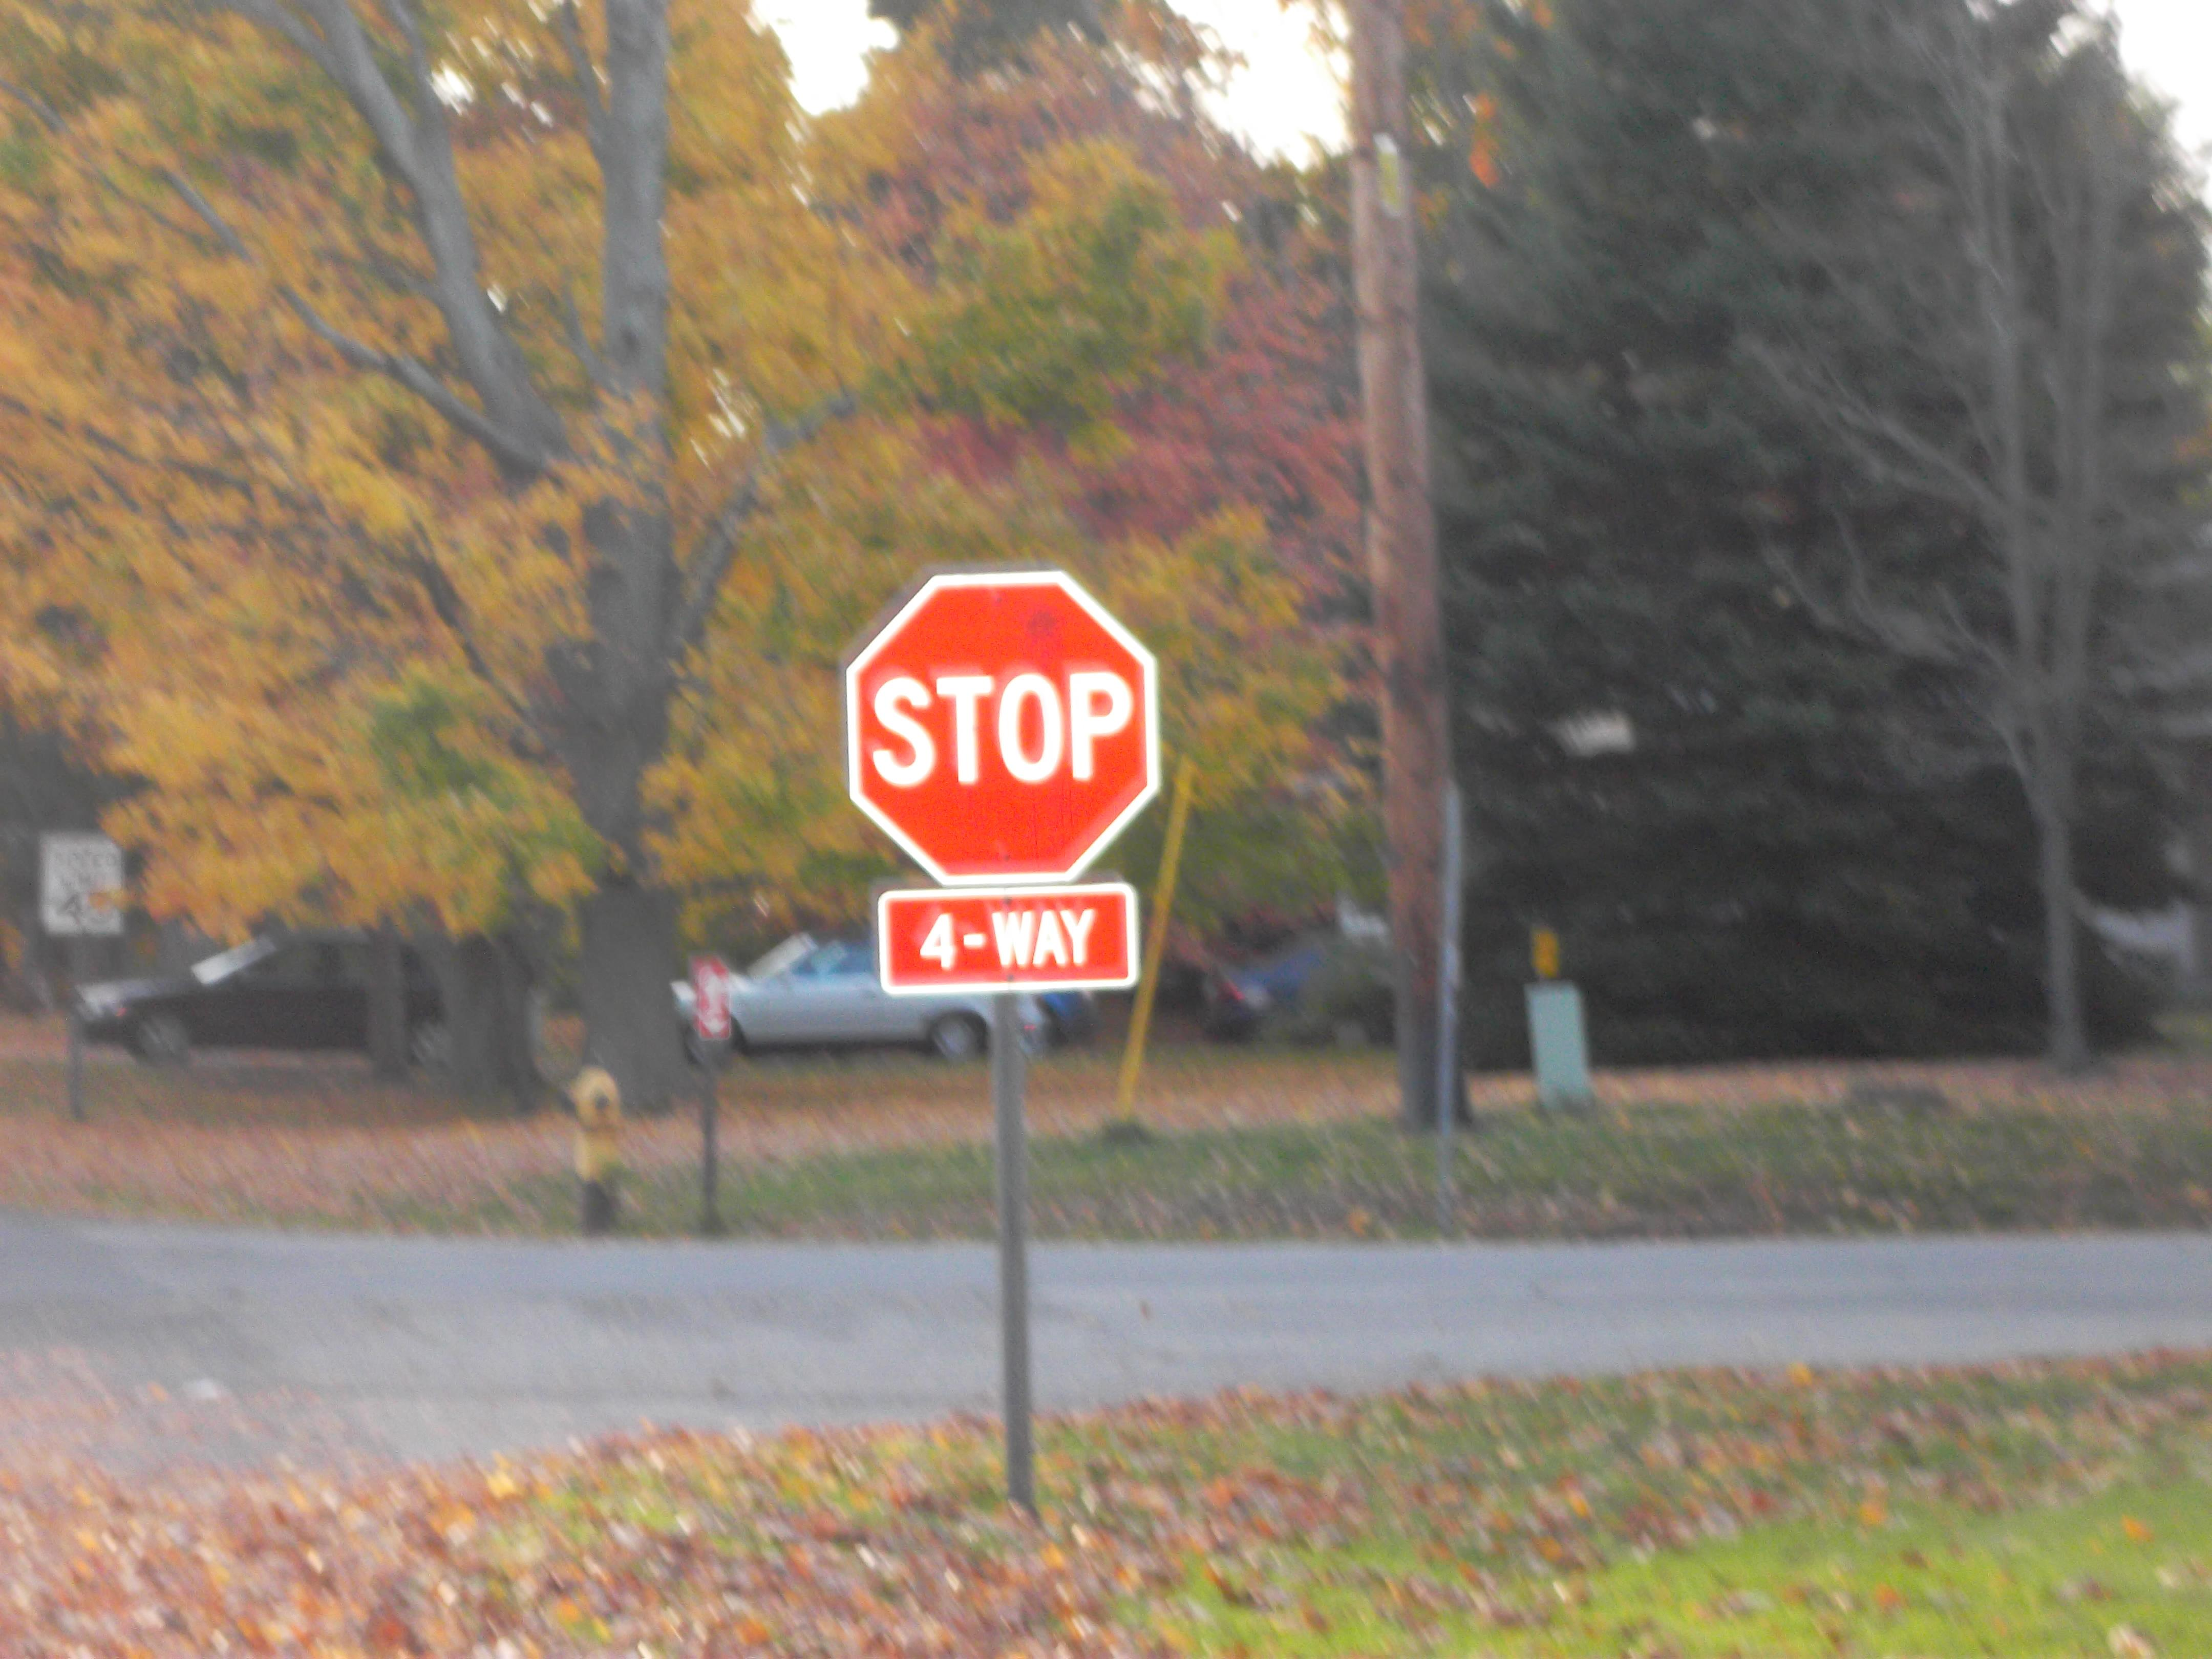stop: (834, 565, 1177, 896)
